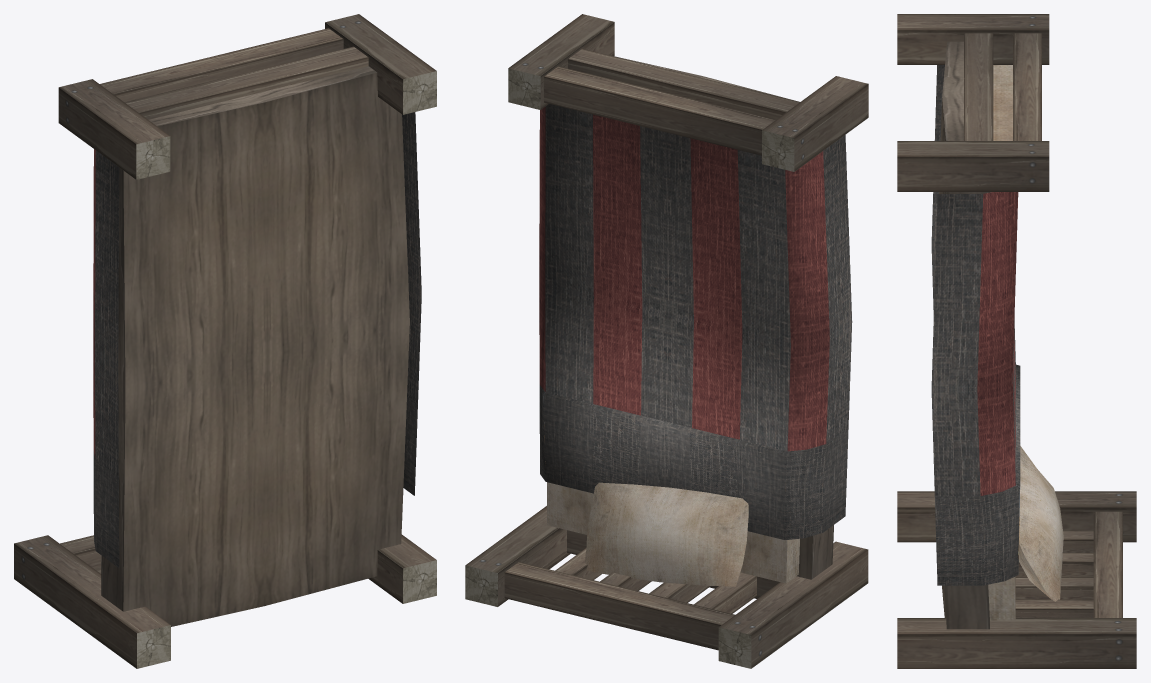
Rendered from Bed_02_B.fbx.
3 views of the same model, side by side, from view 1: azimuth 30°, elevation 25°; view 2: azimuth 150°, elevation 25°; view 3: azimuth 270°, elevation 25° (orthographic). The views are drawn at different scales.
Parts seen in each view (by area): view 1: Bed_02_B; view 2: Bed_02_B; view 3: Bed_02_B.
Boxes of the visible parts, <box> form: Bed_02_B: <box>14,14,436,668</box>; Bed_02_B: <box>465,14,868,668</box>; Bed_02_B: <box>897,14,1136,668</box>.
Size of the model in its own units: 2.21 by 3.65 by 1.55.
